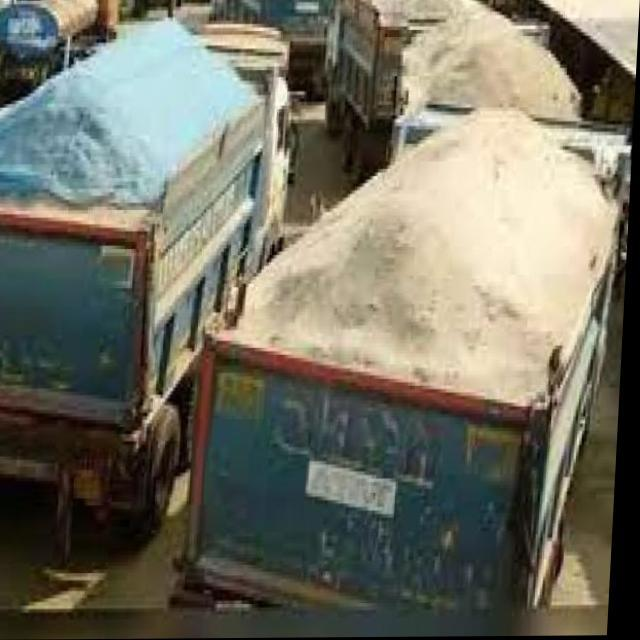covered: (0, 25, 283, 289)
uncovered: (206, 127, 626, 453), (399, 26, 582, 130), (304, 0, 486, 95)
